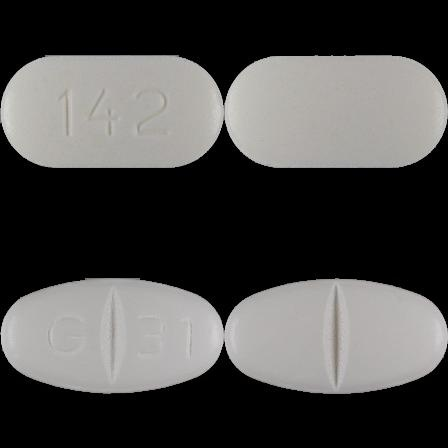54868-5217: (0, 0, 224, 224)
